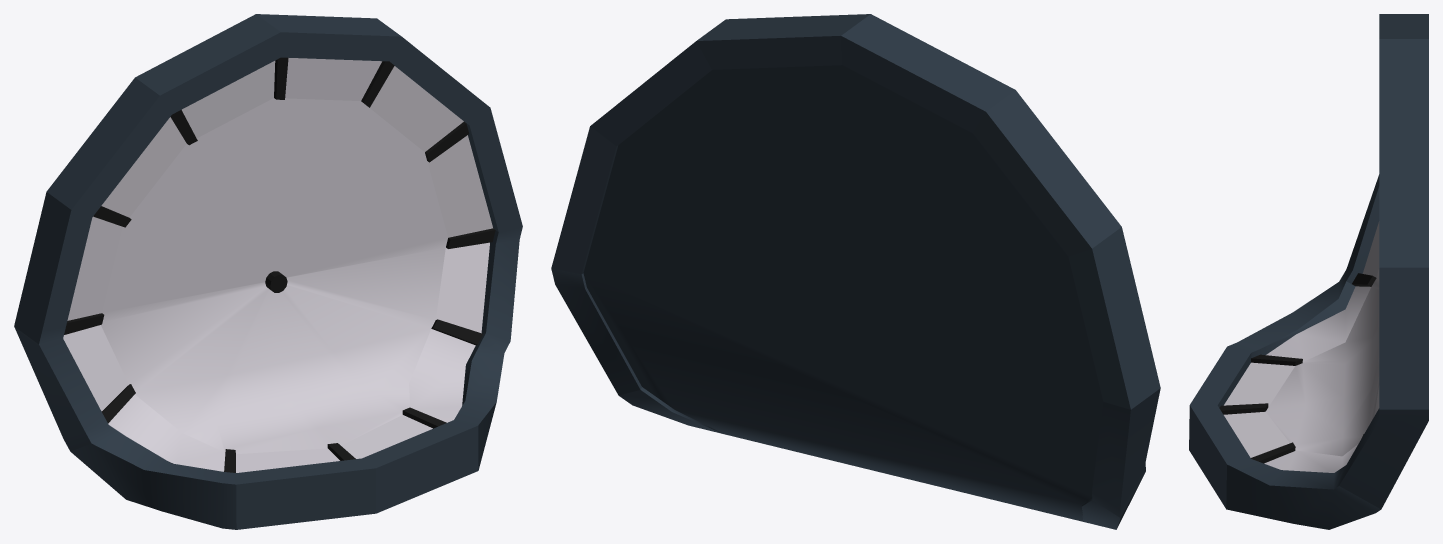
The model's file is scene_Clock1.fbx.
3 renders of one model, left to right at view 1: azimuth 30°, elevation 25°; view 2: azimuth 150°, elevation 25°; view 3: azimuth 270°, elevation 25°, orthographic. The views are drawn at different scales.
Parts seen in each view (by area): view 1: Clock1; view 2: Clock1; view 3: Clock1.
Boxes of the visible parts, x1,y1,x2,y2 form: Clock1: [14, 14, 522, 529]; Clock1: [551, 14, 1160, 529]; Clock1: [1189, 14, 1428, 529].
Bounding box in the file's own units: 4.49 × 3.65 × 1.93.
